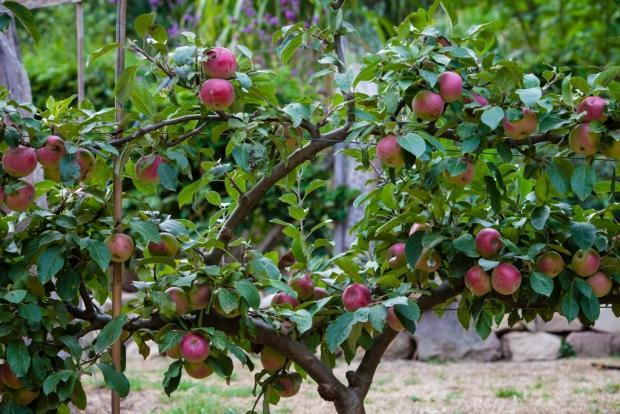apple: (503, 104, 537, 140), (201, 46, 236, 80), (2, 146, 38, 179), (199, 77, 234, 110), (36, 134, 65, 171), (412, 89, 445, 121), (574, 94, 606, 127), (2, 179, 35, 211), (491, 262, 522, 294), (570, 247, 602, 277), (342, 282, 373, 312), (376, 135, 405, 167), (569, 120, 597, 153), (475, 228, 504, 259), (135, 156, 168, 183), (286, 272, 316, 301), (443, 156, 474, 184), (180, 333, 210, 361), (463, 91, 488, 124), (105, 233, 134, 261), (437, 71, 463, 102), (465, 265, 491, 296), (145, 233, 176, 259), (72, 147, 96, 180), (537, 250, 565, 278), (586, 270, 612, 296), (165, 286, 188, 315), (275, 372, 300, 398), (260, 345, 285, 371), (598, 131, 619, 161), (183, 358, 214, 378), (387, 241, 408, 269), (418, 247, 441, 272), (188, 284, 211, 309), (271, 292, 299, 310), (376, 274, 401, 288)
